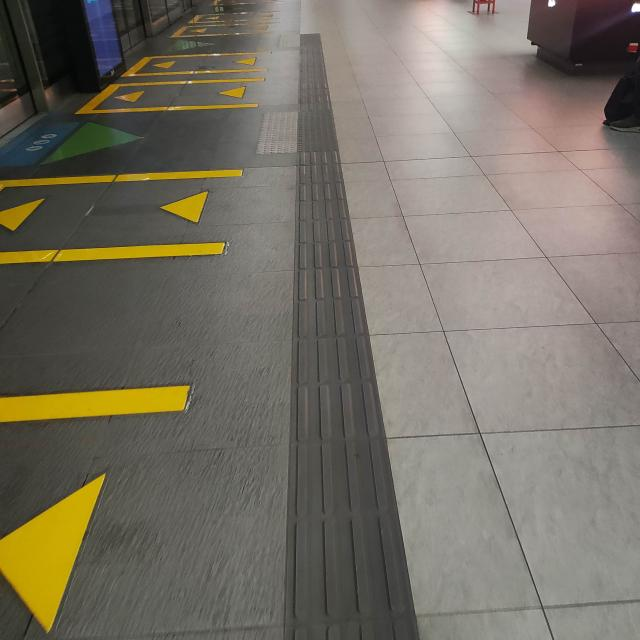lurus: (276, 37, 398, 640)
